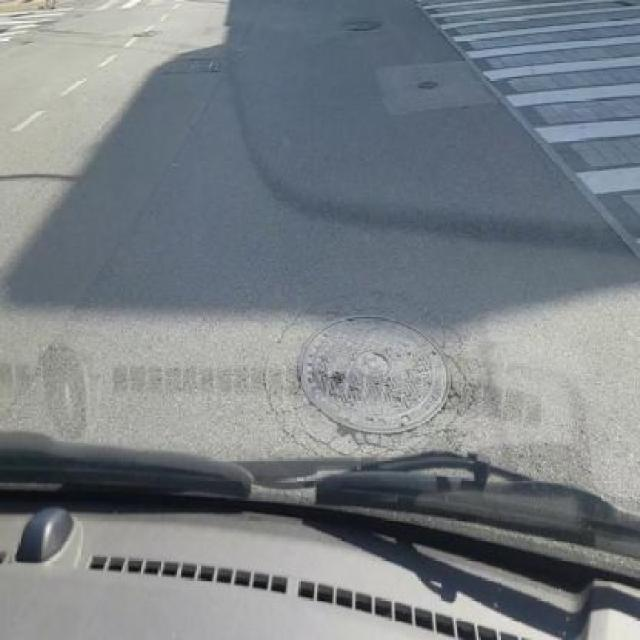Manhole: (296, 313, 452, 442), (376, 68, 488, 108), (160, 53, 236, 75), (339, 15, 385, 38), (133, 29, 167, 38)
